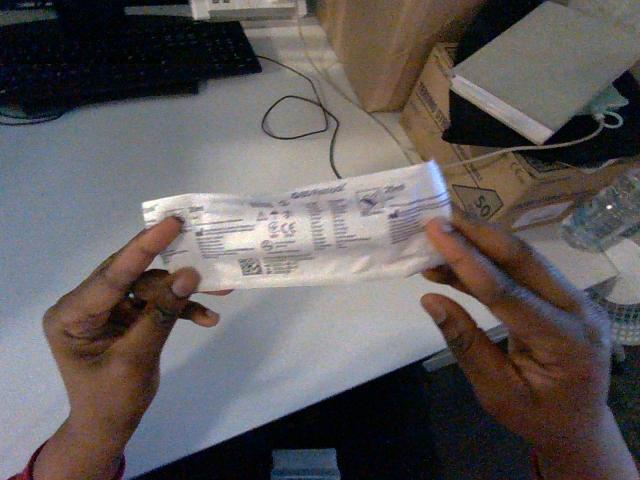syringe: (142, 161, 450, 290)
